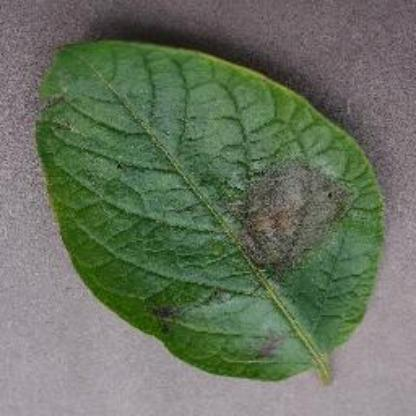Late-Blight: (18, 32, 388, 400)
